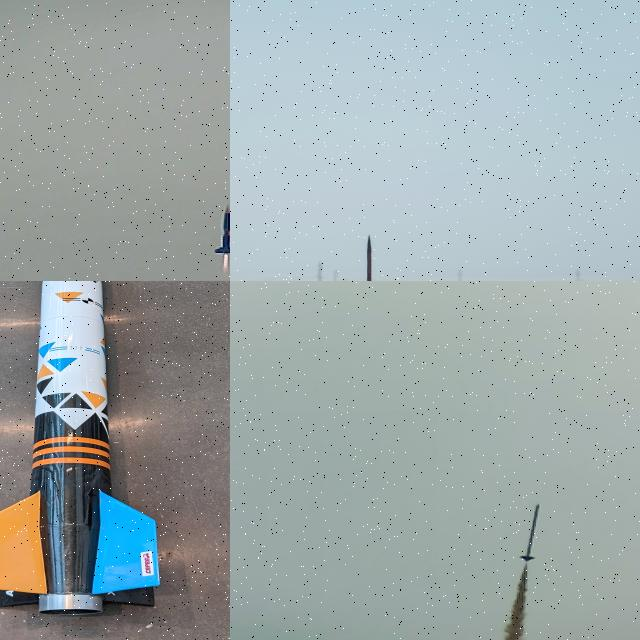Rocket: (0, 281, 161, 616), (518, 503, 541, 561), (213, 201, 230, 254), (362, 234, 376, 281)
